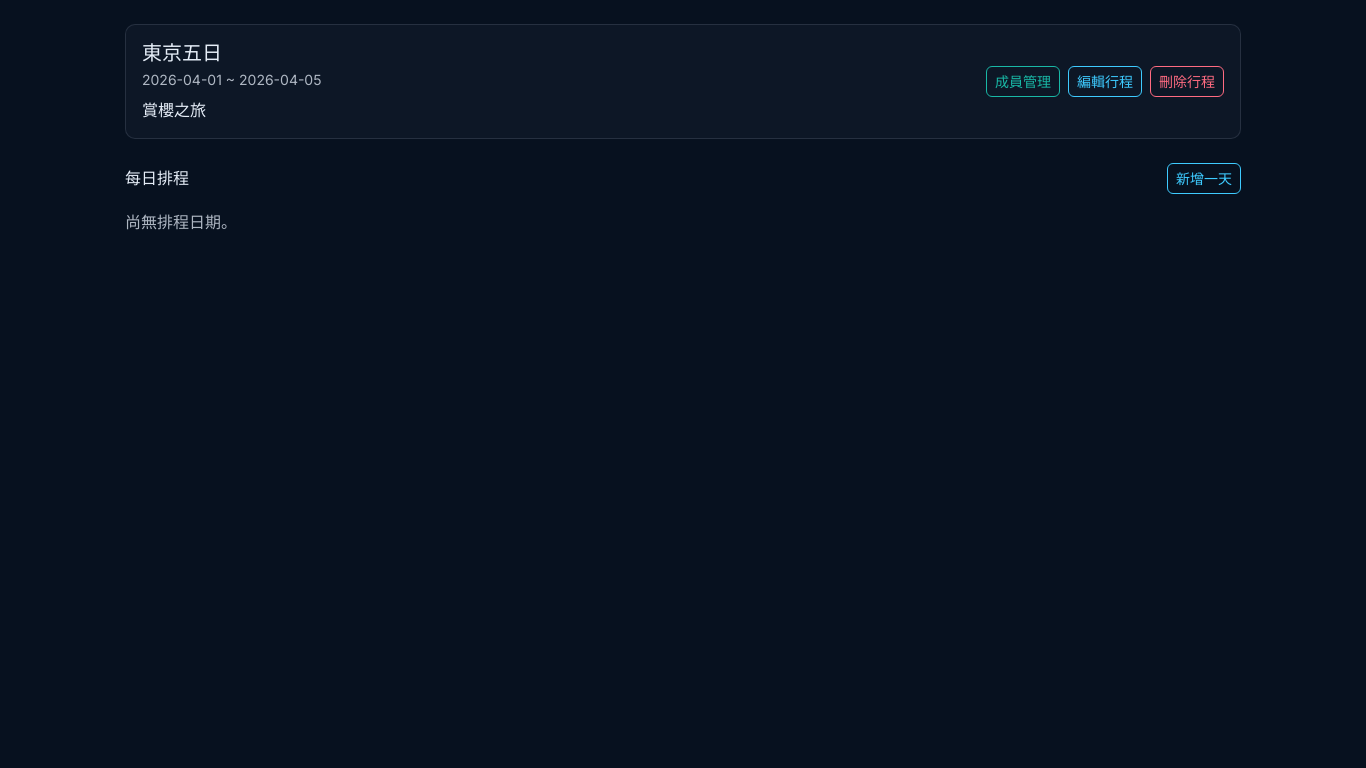
TripDetailPage › 每日排程管理 › 新增一天後 POST 並重取明細以顯示該天
Click the button "新增一天".
click(1204, 178)  # box [1167, 163, 1241, 194]
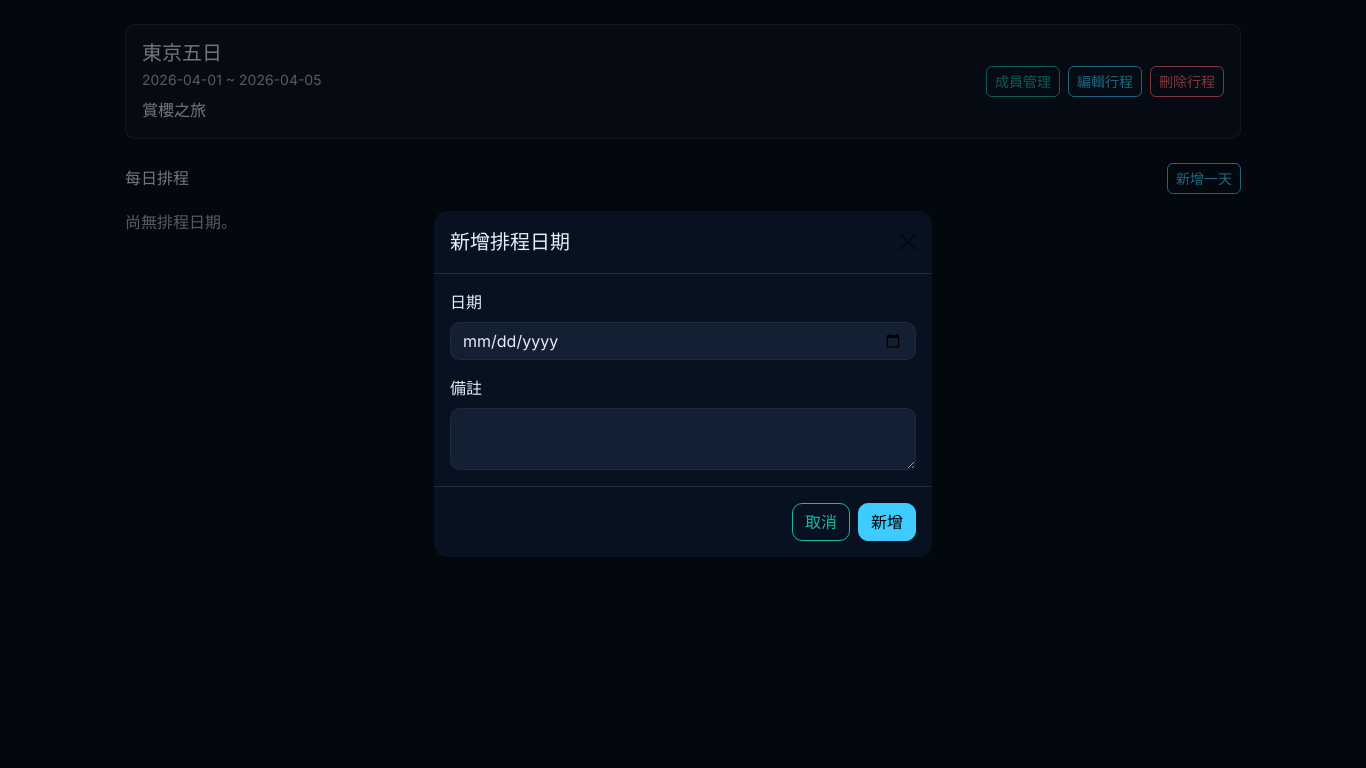
Type "2026-04-02" into the date field labelled "日期".
click(683, 341); type("2026-04-02")  # box [450, 322, 916, 360]
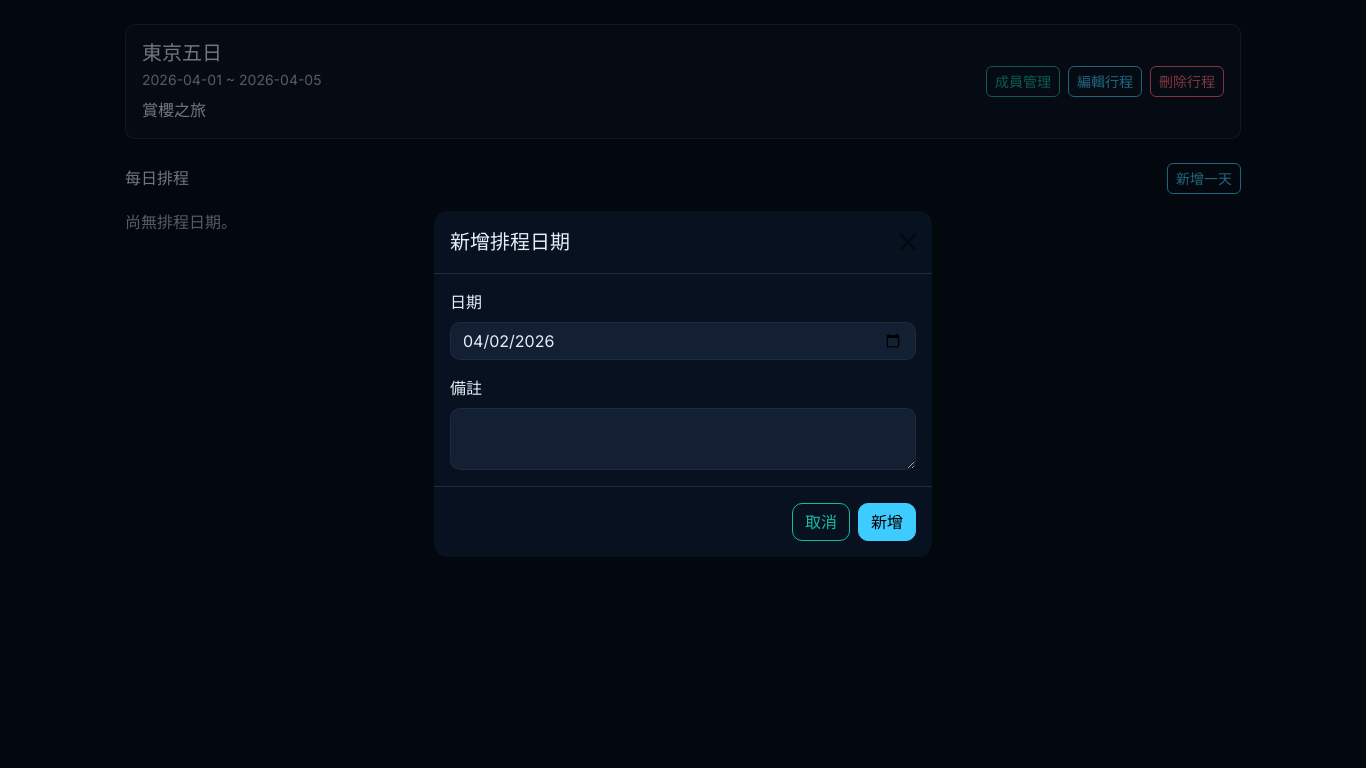
Click the button "新增".
click(887, 522)  # box [858, 503, 916, 541]
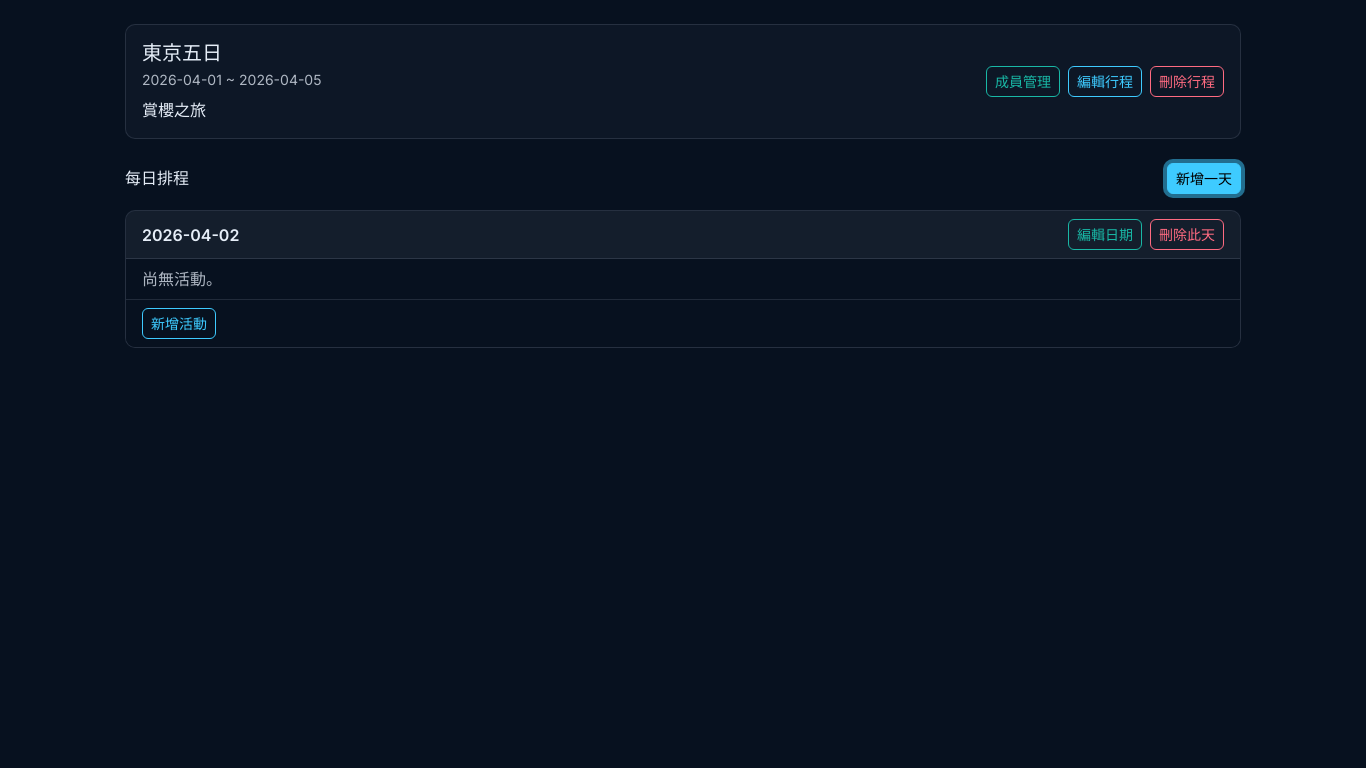
Result: the text "2026-04-02" is shown at [142, 224, 239, 244]
